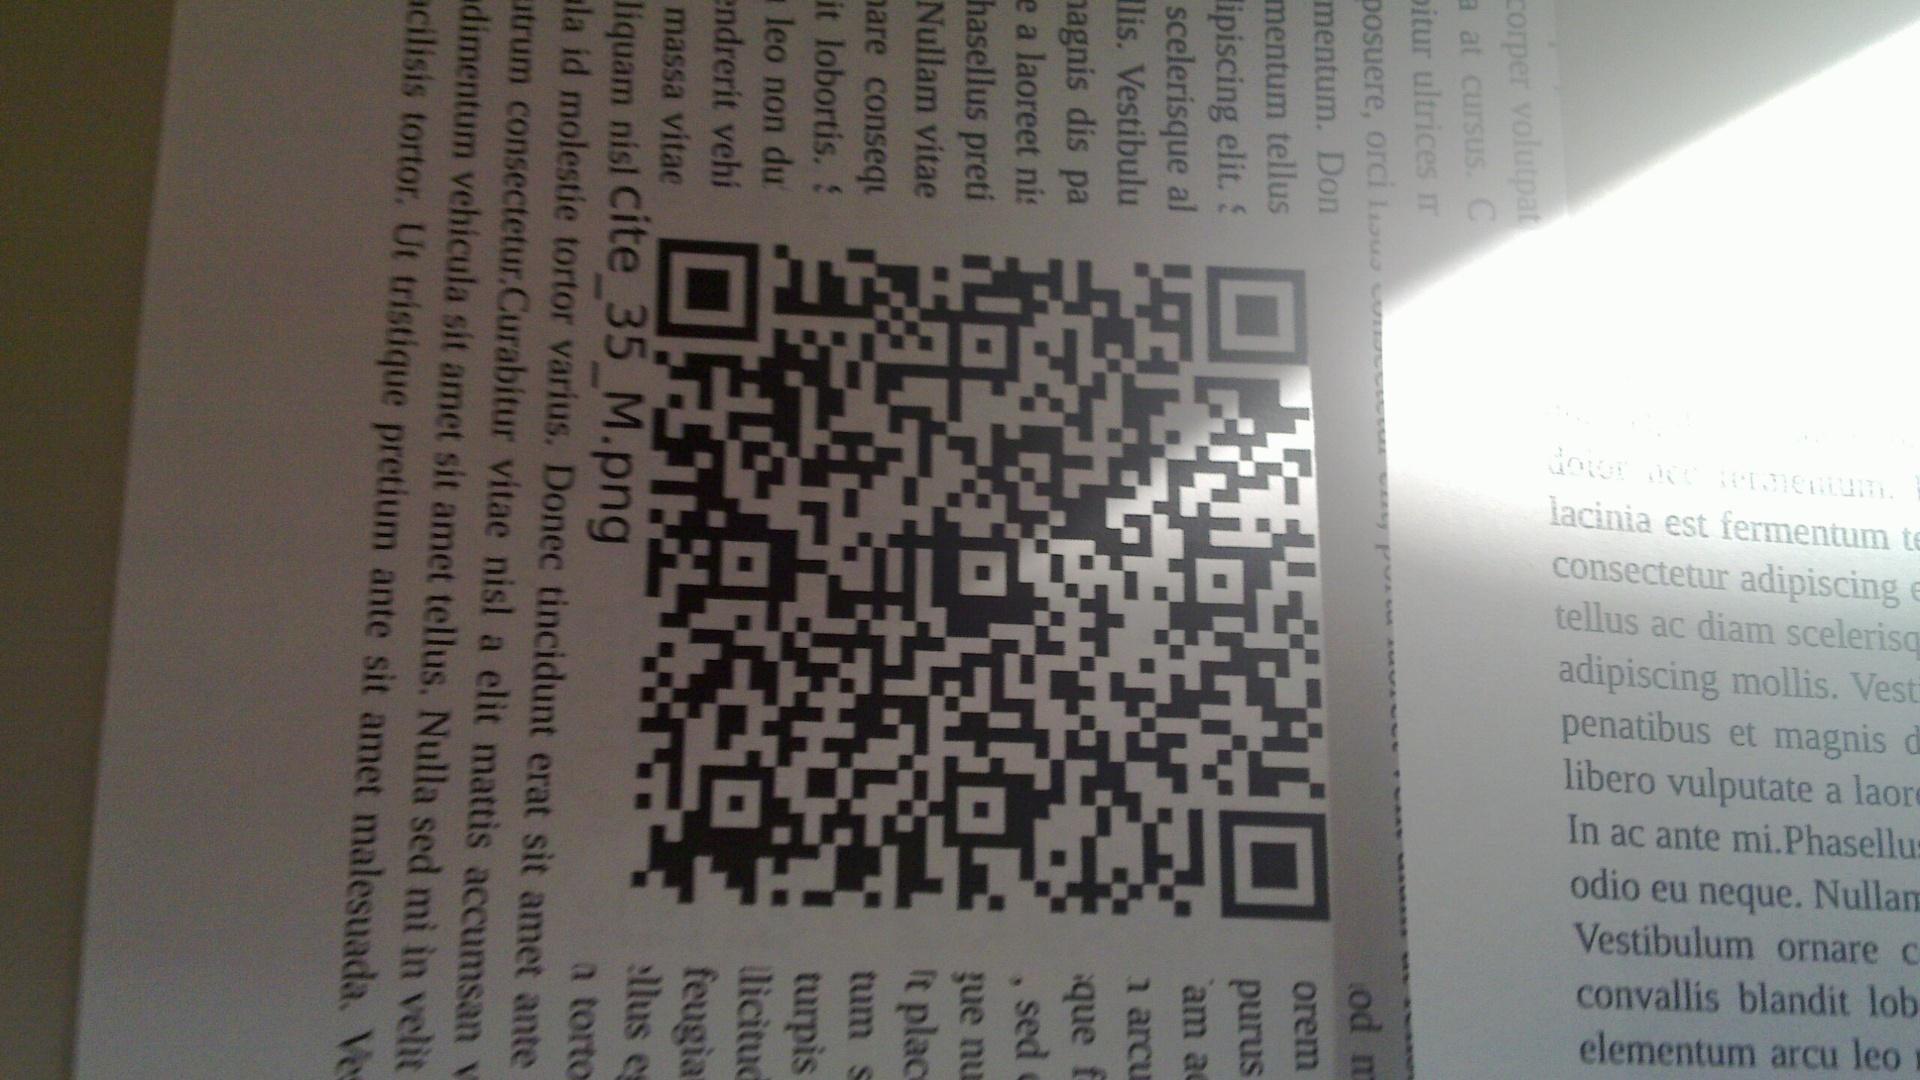Finder pattern: (1209, 798, 1336, 928), (647, 231, 771, 349), (1201, 257, 1313, 369)
